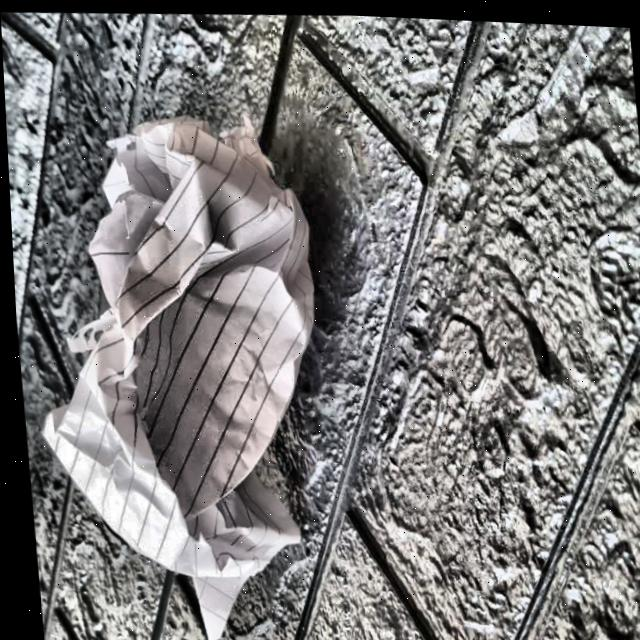paper: (12, 75, 333, 632)
